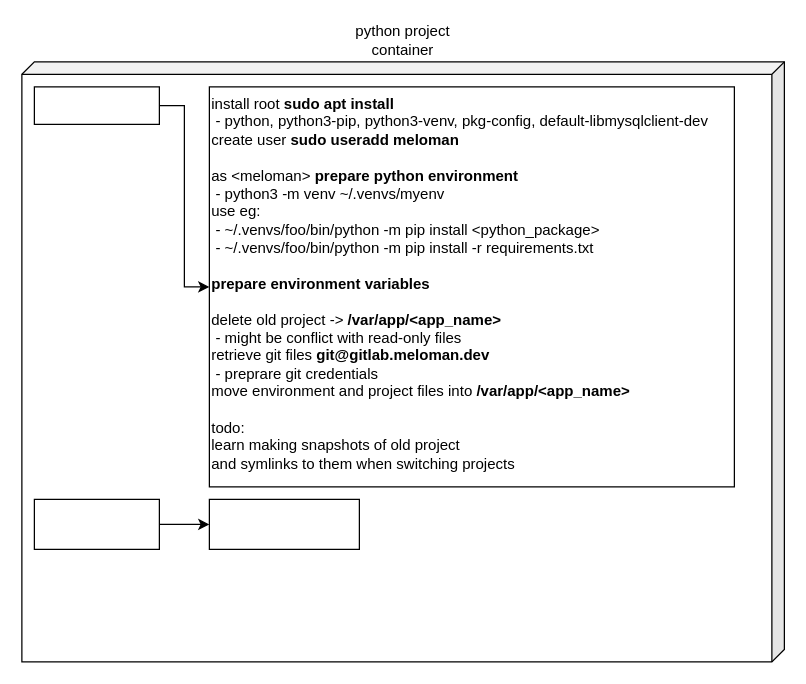
Some shapes in this 806 by 684 pixel diagram are drawn without their labels. Each missing label, with the box of its shape:
prepare container from agent: (33, 498, 159, 549)
prepare container manualy: (33, 86, 159, 124)
